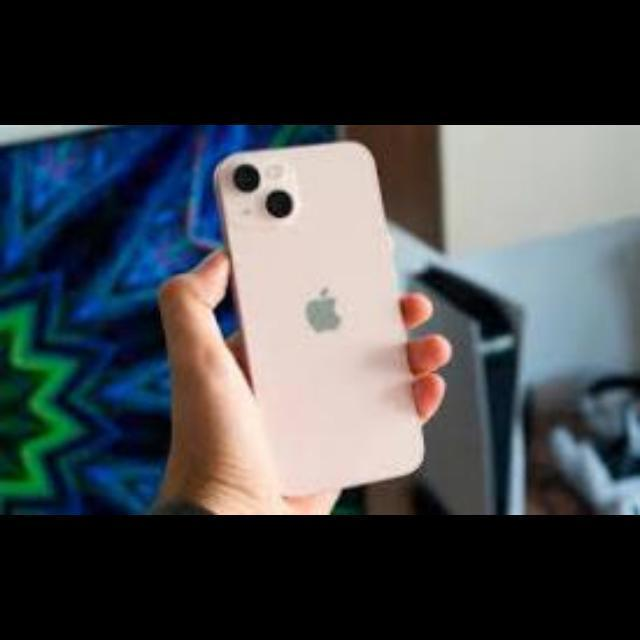phone: (161, 130, 448, 501)
